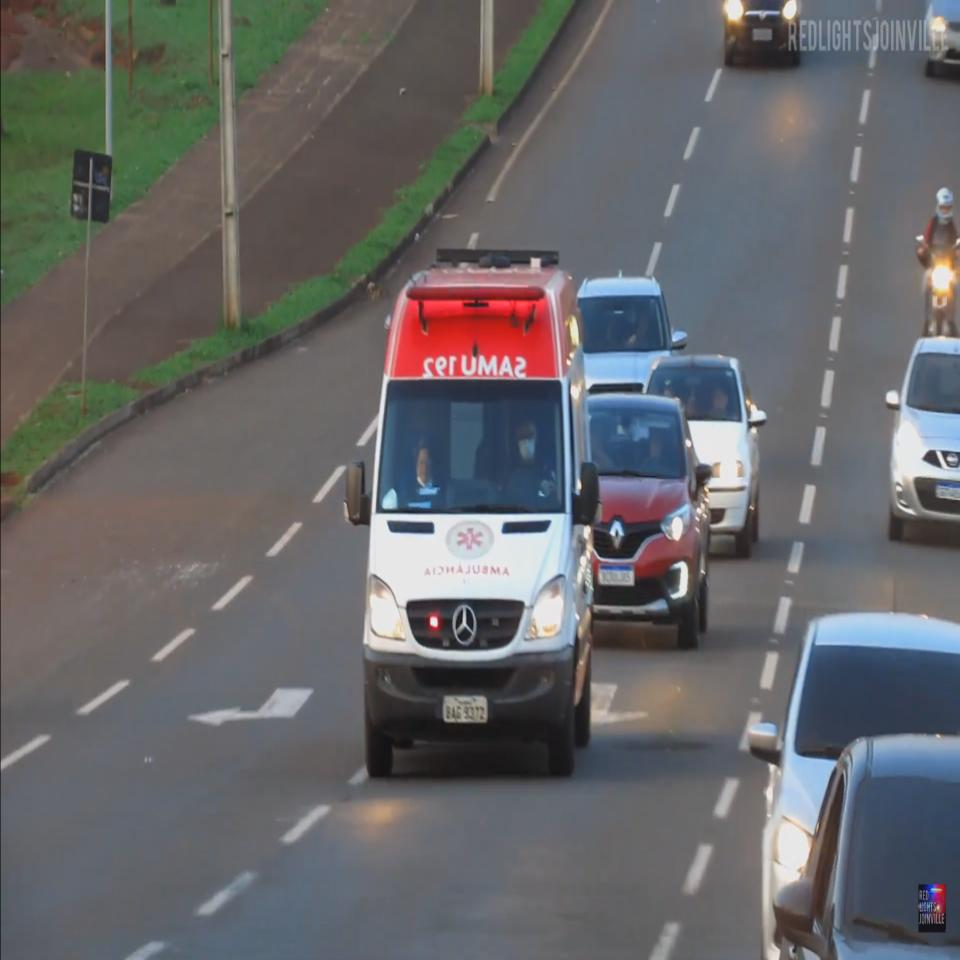bombeiro: (347, 239, 602, 781)
